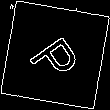P_NE: (24, 25, 86, 85)
